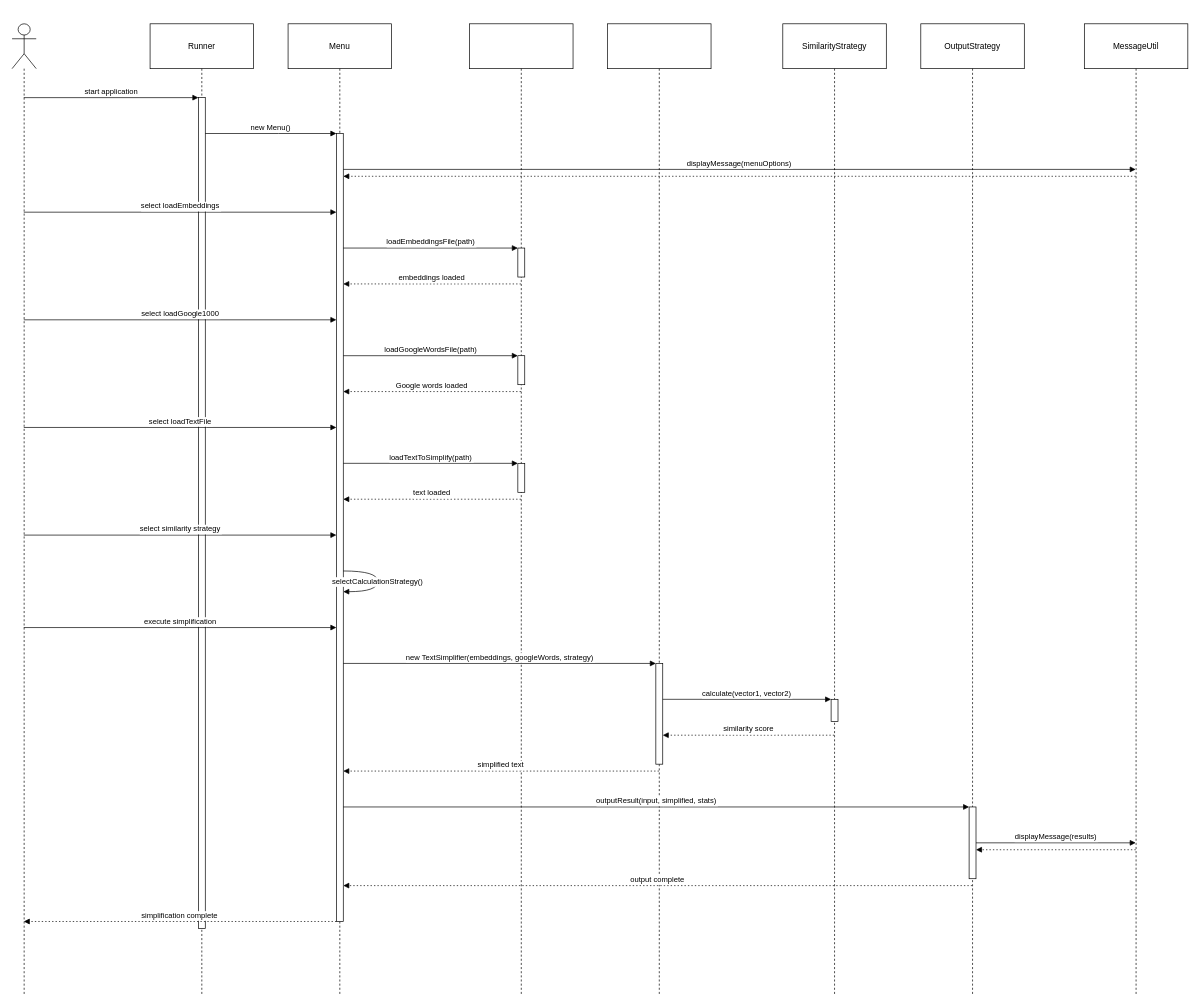
This 1200x1006 diagram has some shape labels left out. The shapes that lost their labels are listed below. From the top down, each one's box as (x1, y1, x2, y2) in pixels, then its label:
(11, 23, 36, 994): User
(469, 23, 573, 994): FileParser
(607, 23, 711, 994): TextSimplifier
